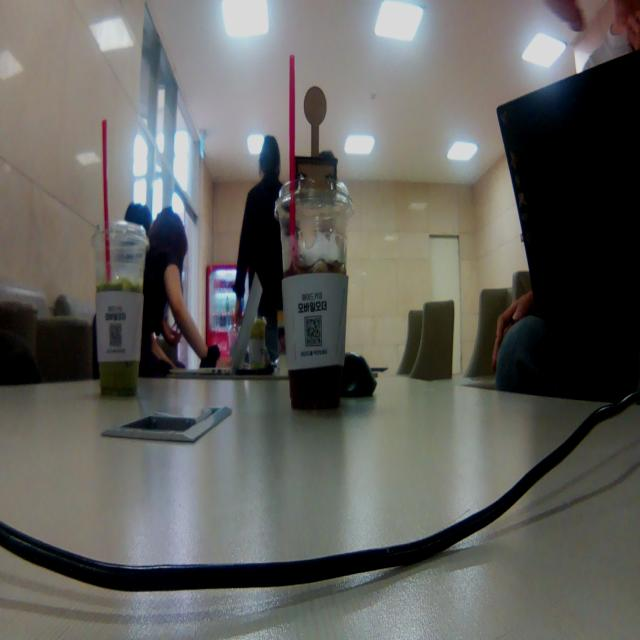target: (295, 84, 339, 200)
